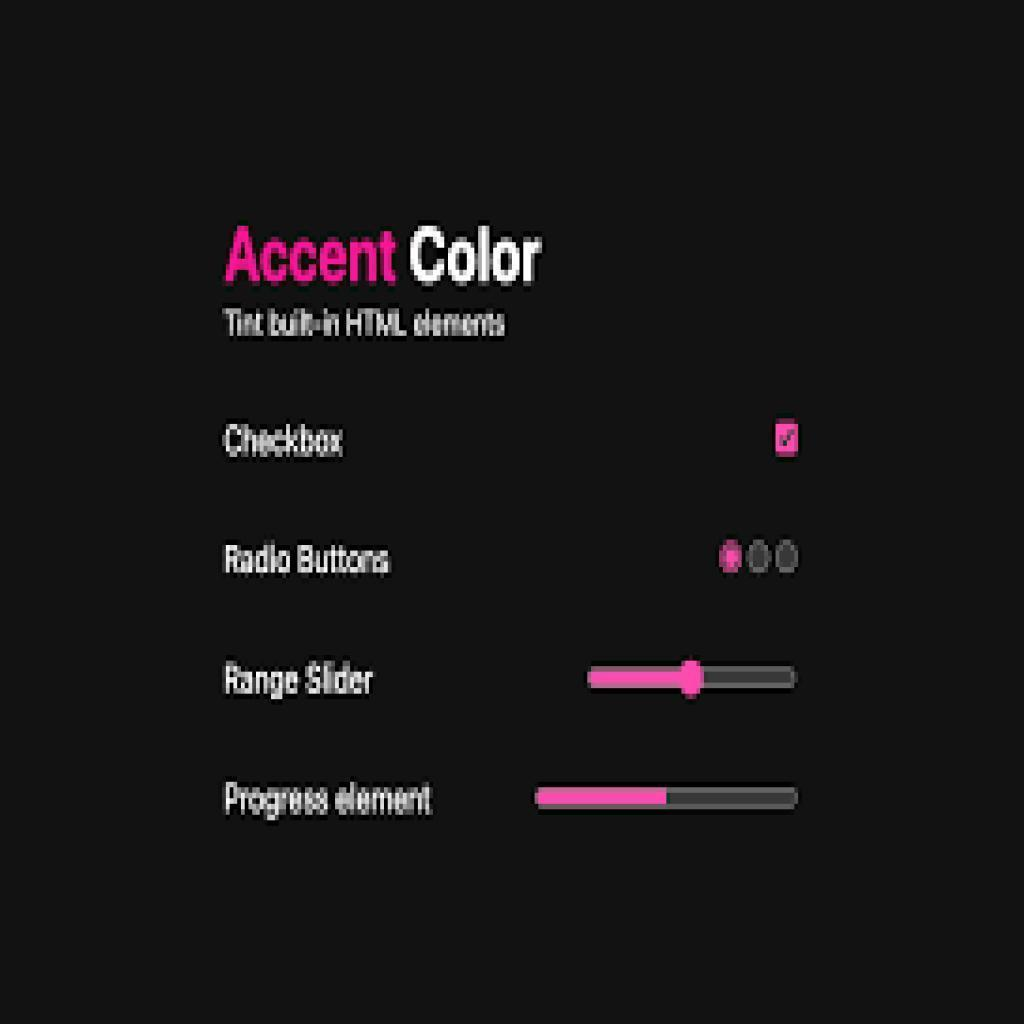checkbox: (774, 420, 800, 456)
radio: (772, 538, 799, 576), (717, 540, 743, 574), (746, 540, 770, 572)
